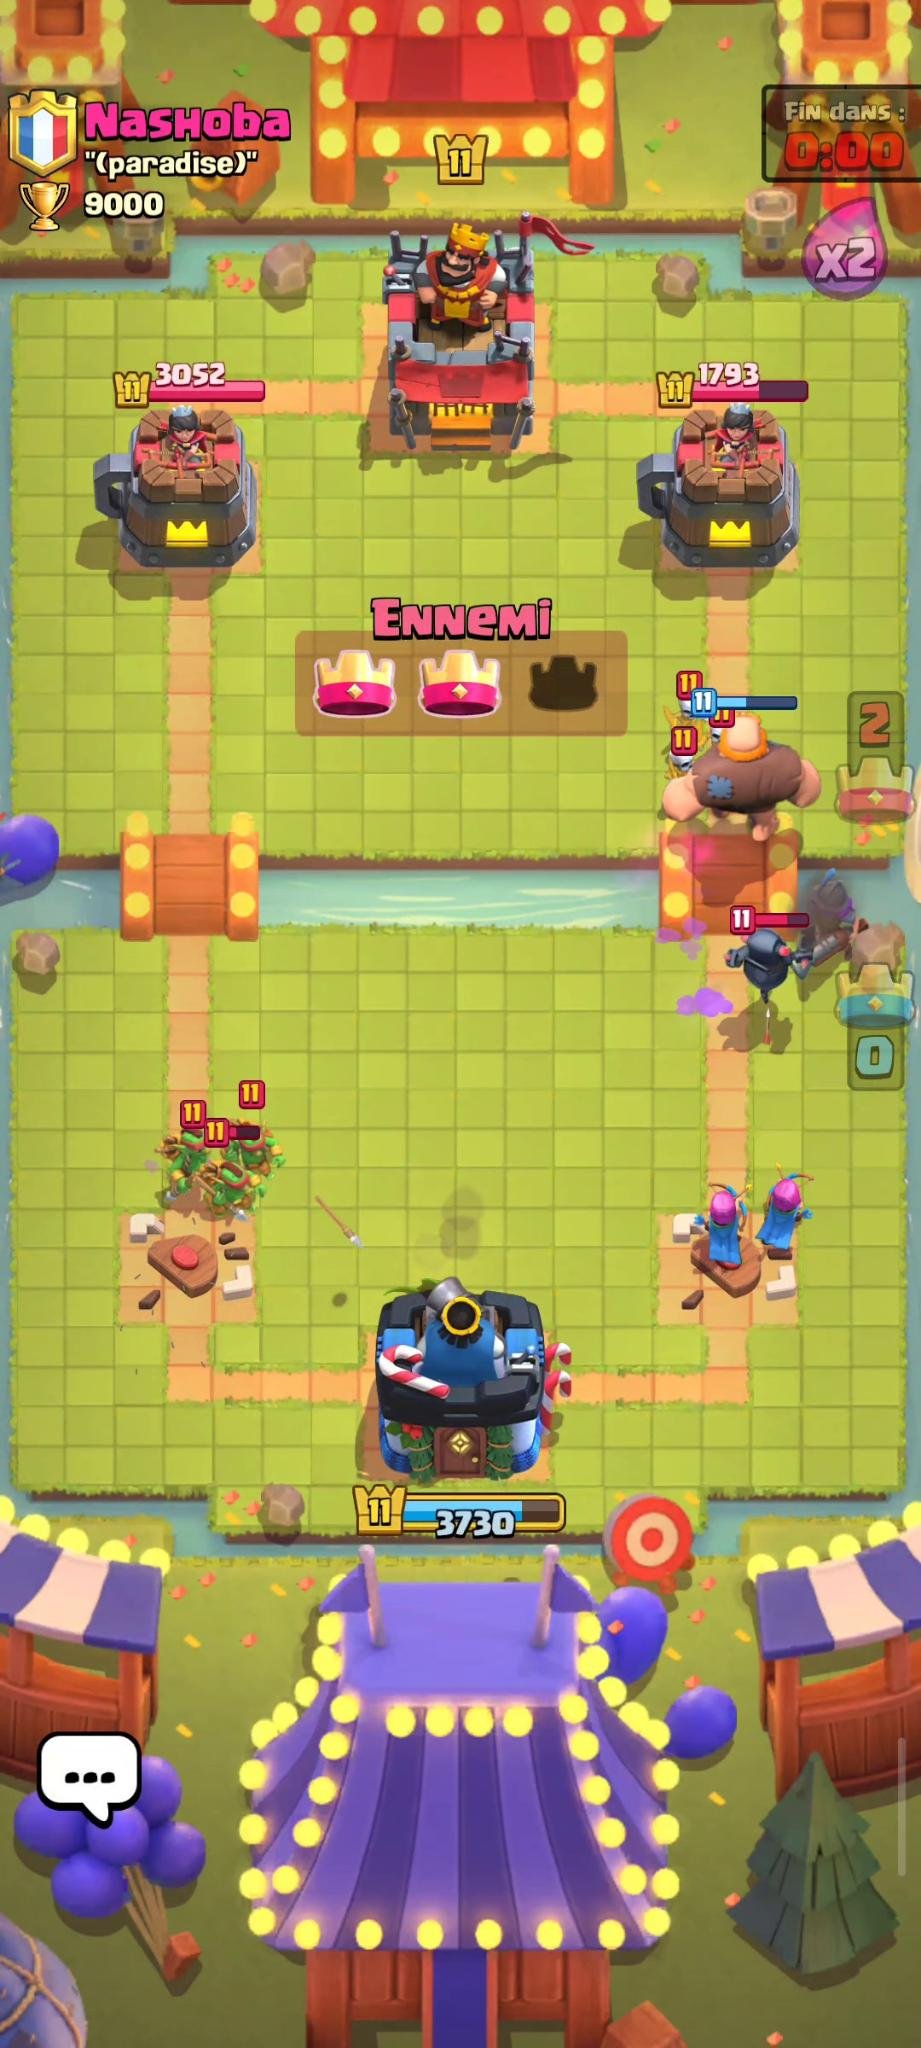archere: (756, 1170, 827, 1250), (707, 1189, 752, 1264)
geant: (704, 714, 790, 828)
gobelin_lances: (148, 1127, 216, 1186), (209, 1164, 268, 1223), (235, 1118, 277, 1178)
mini_PEKKA: (719, 908, 806, 1023)
mousquetaire: (802, 867, 856, 956)
squelette: (675, 744, 699, 788), (709, 714, 733, 752), (674, 688, 703, 717)
